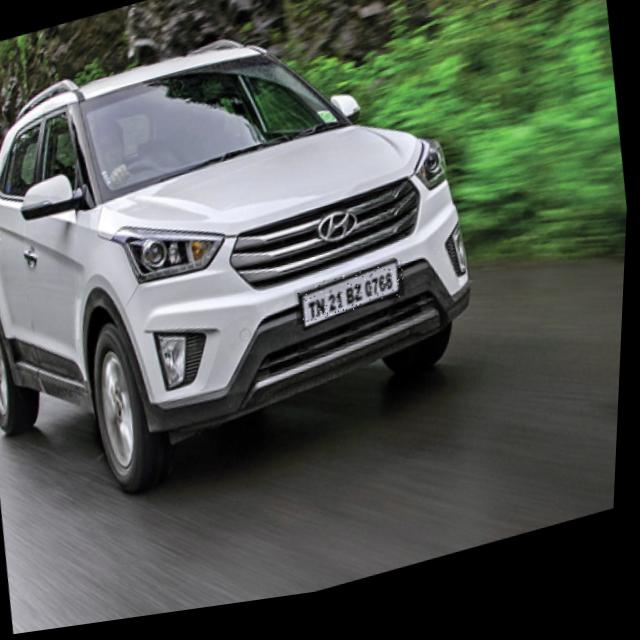license_plate: (296, 271, 409, 335)
